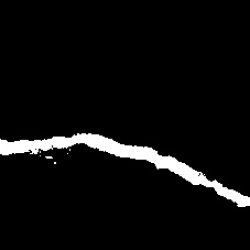crack: (2, 134, 245, 208)
